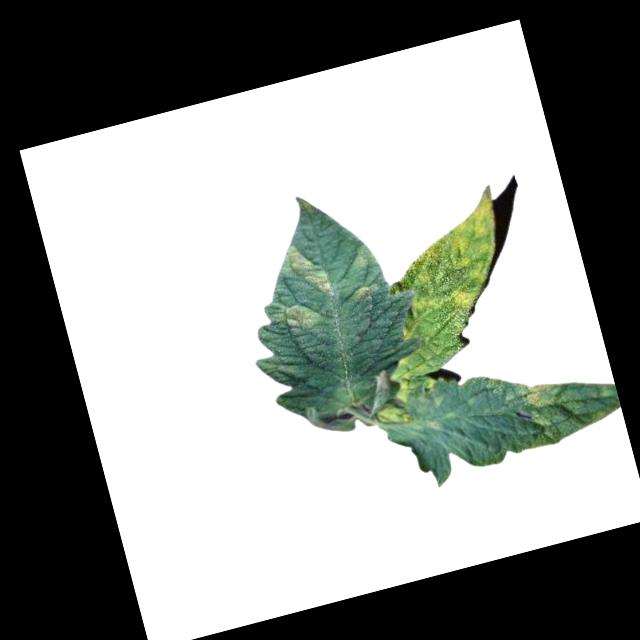Leaf_Mold: (371, 185, 521, 337), (275, 233, 339, 308), (263, 290, 325, 336), (521, 375, 569, 412), (352, 242, 376, 268), (351, 284, 377, 307)
